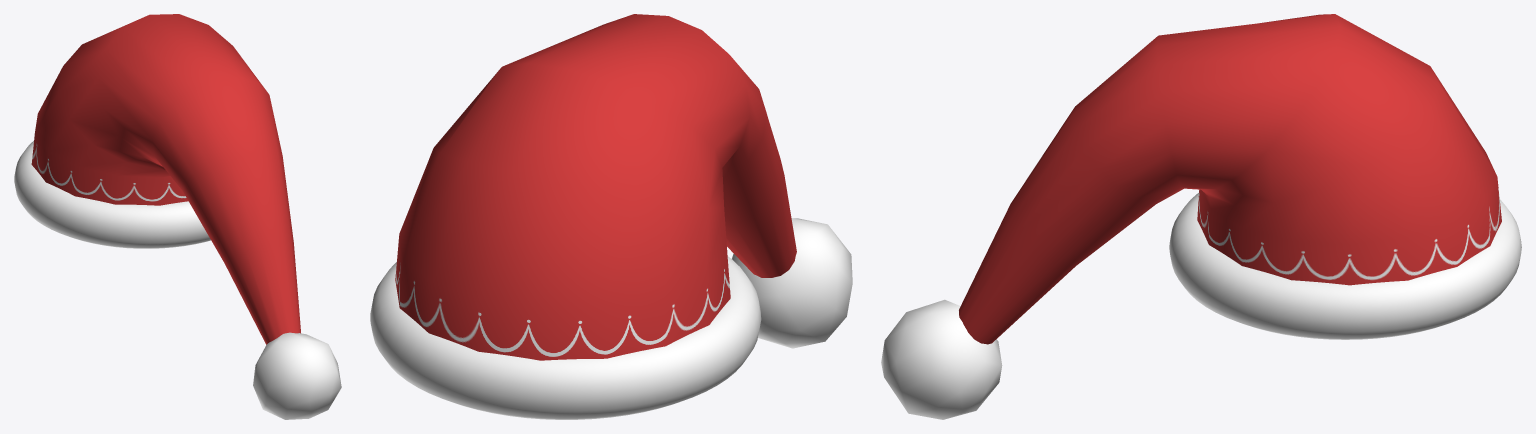
Rendered from doremy_hat.glb.
The picture shows the model from 3 angles, left to right: view 1: azimuth 30°, elevation 25°; view 2: azimuth 150°, elevation 25°; view 3: azimuth 270°, elevation 25°; orthographic projection. The views are drawn at different scales.
Visible parts, largest first — view 1: doremy_hat; view 2: doremy_hat; view 3: doremy_hat.
Boxes of the visible parts, x1,y1,x2,y2 form: doremy_hat: [14, 14, 341, 419]; doremy_hat: [370, 14, 852, 419]; doremy_hat: [881, 14, 1521, 419].
Bounding box in the file's own units: 1.87 × 2.29 × 3.4.
Materials: 2 (1 with a texture image).
